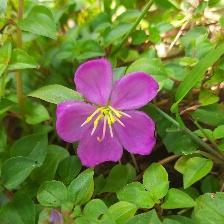malabar melastome: (55, 57, 162, 167)
